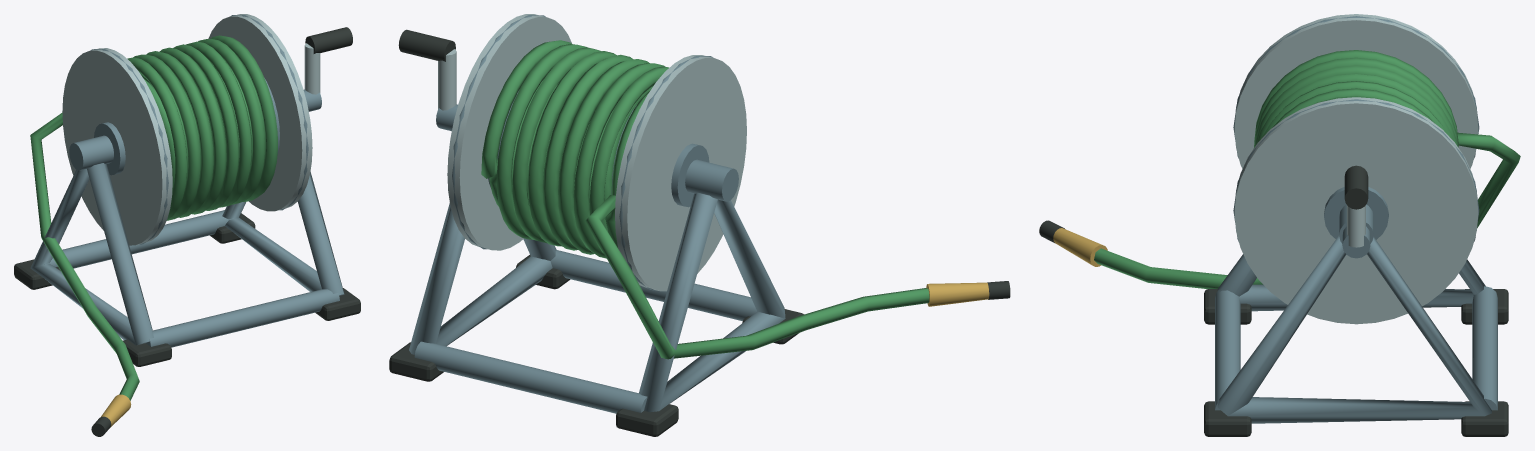
Rendered from hose_reel.glb.
3 renders of one model, left to right at view 1: azimuth 30°, elevation 25°; view 2: azimuth 150°, elevation 25°; view 3: azimuth 270°, elevation 25°, orthographic. The views are drawn at different scales.
Parts seen in each view (by area): view 1: Continuous two-layer coiled hose and free end, Circular plastic reel flange, Circular plastic reel flange.001, Reel triangular plastic support, Reel triangular plastic support.001, Plastic stand connecting rail, Plastic stand connecting rail.001, Reel axle through both supports, Grounded anti-slip reel foot, Crank hand grip, Reel hub cap, Grounded anti-slip reel foot.002 (+6 smaller); view 2: Continuous two-layer coiled hose and free end, Circular plastic reel flange, Reel triangular plastic support, Circular plastic reel flange.001, Reel triangular plastic support.001, Plastic stand connecting rail.001, Plastic stand connecting rail, Reel axle through both supports, Grounded anti-slip reel foot.001, Attached brass hose nozzle, Crank hand grip, Reel hub cap (+4 smaller); view 3: Circular plastic reel flange.001, Reel triangular plastic support.001, Continuous two-layer coiled hose and free end, Circular plastic reel flange, Reel triangular plastic support, Plastic stand connecting rail.001, Plastic stand connecting rail, Reel hub cap.001, Grounded anti-slip reel foot.002, Grounded anti-slip reel foot.003, Attached brass hose nozzle, Crank hand grip (+6 smaller).
Boxes of the visible parts, box(x1,y1,x2,y2) form: Continuous two-layer coiled hose and free end: box(30, 35, 277, 400); Circular plastic reel flange: box(62, 48, 172, 245); Circular plastic reel flange.001: box(208, 14, 312, 211); Reel triangular plastic support: box(30, 163, 153, 345); Reel triangular plastic support.001: box(222, 172, 344, 295); Plastic stand connecting rail: box(146, 289, 339, 347); Plastic stand connecting rail.001: box(44, 210, 233, 268); Reel axle through both supports: box(69, 135, 113, 170); Grounded anti-slip reel foot: box(123, 339, 171, 366); Crank hand grip: box(305, 27, 352, 53); Reel hub cap: box(94, 122, 125, 175); Grounded anti-slip reel foot.002: box(315, 288, 360, 320); Continuous two-layer coiled hose and free end: box(481, 40, 929, 359); Circular plastic reel flange: box(615, 55, 746, 291); Reel triangular plastic support: box(639, 193, 785, 412); Circular plastic reel flange.001: box(447, 14, 571, 250); Reel triangular plastic support.001: box(409, 203, 556, 354); Plastic stand connecting rail.001: box(414, 341, 647, 413); Plastic stand connecting rail: box(550, 250, 756, 321); Reel axle through both supports: box(685, 159, 738, 201); Grounded anti-slip reel foot.001: box(616, 404, 678, 436); Attached brass hose nozzle: box(926, 282, 989, 306); Crank hand grip: box(398, 29, 455, 61); Reel hub cap: box(671, 143, 709, 207); Circular plastic reel flange.001: box(1234, 97, 1478, 324); Reel triangular plastic support.001: box(1217, 236, 1491, 423); Continuous two-layer coiled hose and free end: box(1094, 50, 1520, 288); Circular plastic reel flange: box(1234, 14, 1478, 168); Reel triangular plastic support: box(1217, 254, 1485, 311); Plastic stand connecting rail.001: box(1472, 286, 1497, 410); Plastic stand connecting rail: box(1215, 290, 1240, 410); Reel hub cap.001: box(1324, 187, 1388, 239); Grounded anti-slip reel foot.002: box(1204, 401, 1251, 436); Grounded anti-slip reel foot.003: box(1461, 401, 1508, 436); Attached brass hose nozzle: box(1053, 228, 1107, 266); Crank hand grip: box(1344, 165, 1368, 209).
Size of the model in its own units: 0.9602 by 0.62 by 0.8612.
